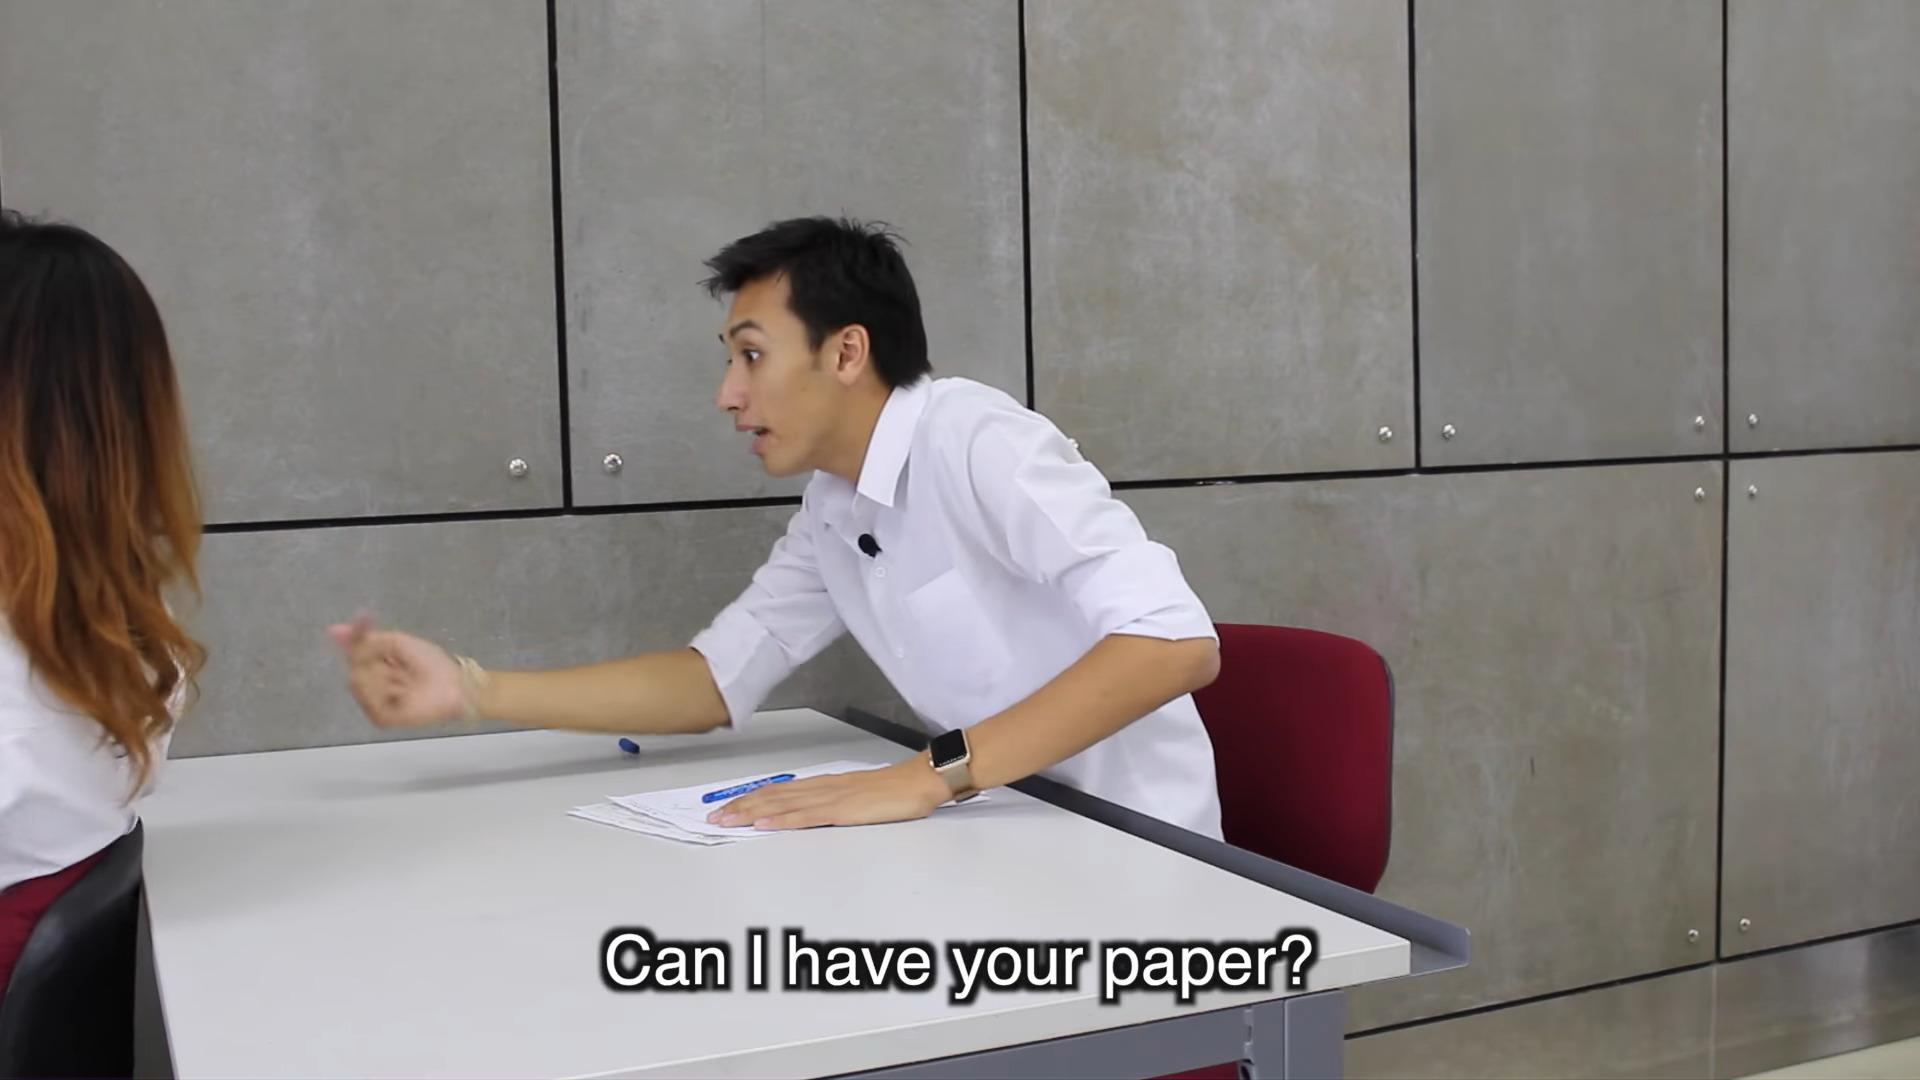cheating: (307, 200, 1273, 897)
